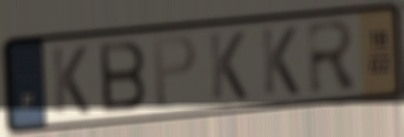B: (96, 38, 149, 116)
K: (206, 29, 249, 103), (49, 43, 92, 117), (259, 24, 302, 98)
P: (151, 32, 199, 112)
R: (304, 17, 362, 98)
